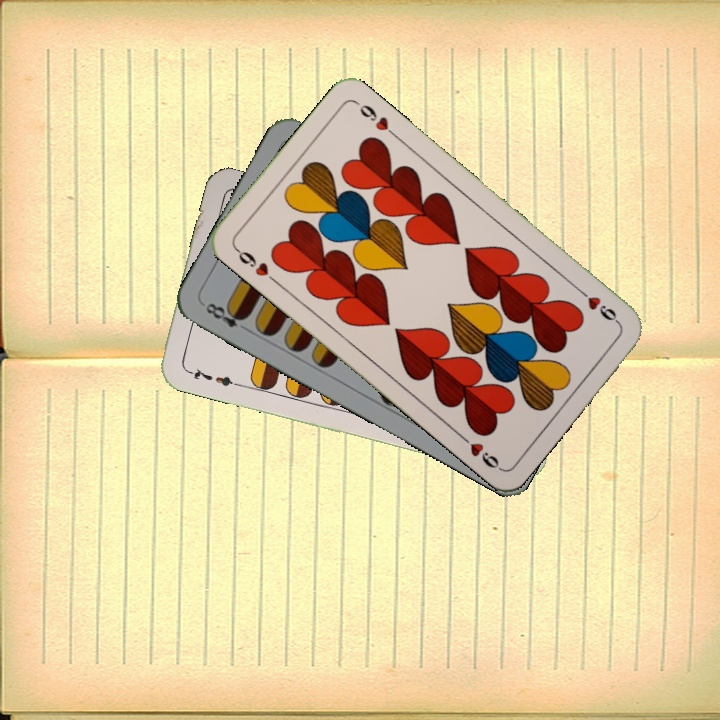E7: (182, 364, 240, 389)
E8: (201, 298, 252, 335)
H9: (230, 243, 280, 286), (573, 284, 623, 327)
